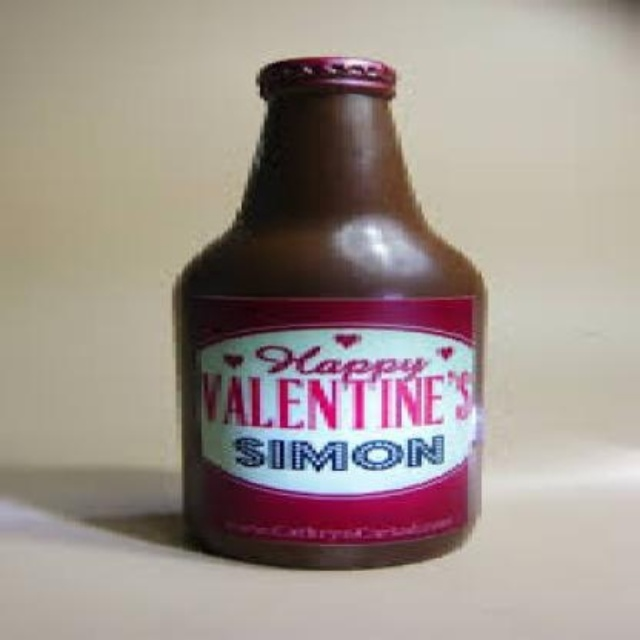trash: (175, 57, 485, 565)
